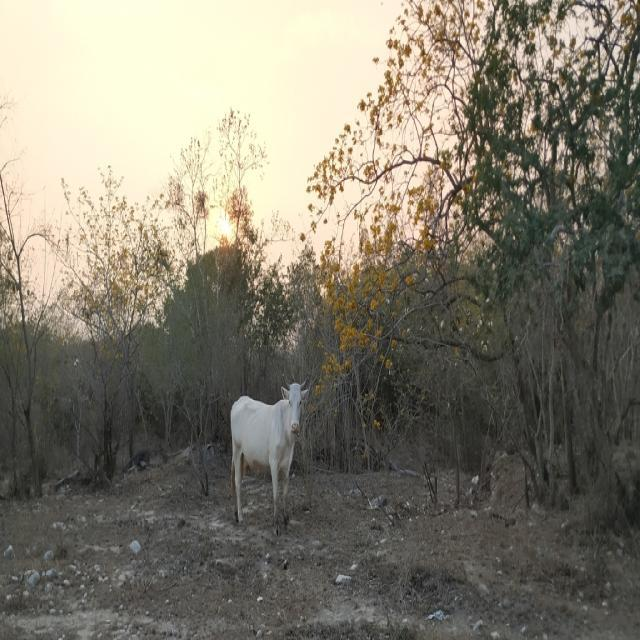cow: (231, 384, 309, 533)
